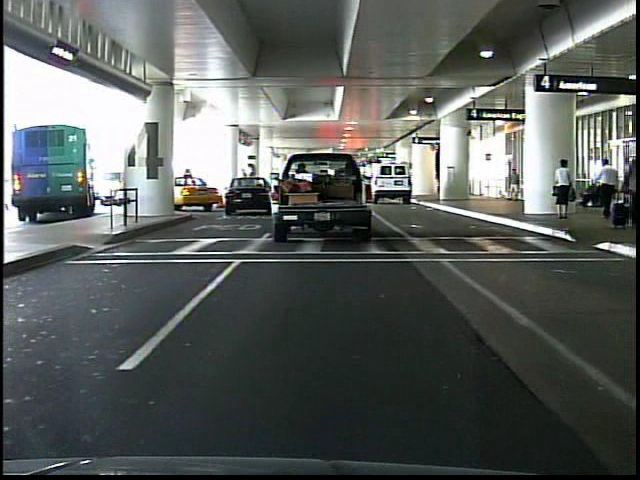person: (550, 154, 576, 225), (618, 145, 637, 230), (594, 154, 618, 221), (506, 163, 523, 206)
